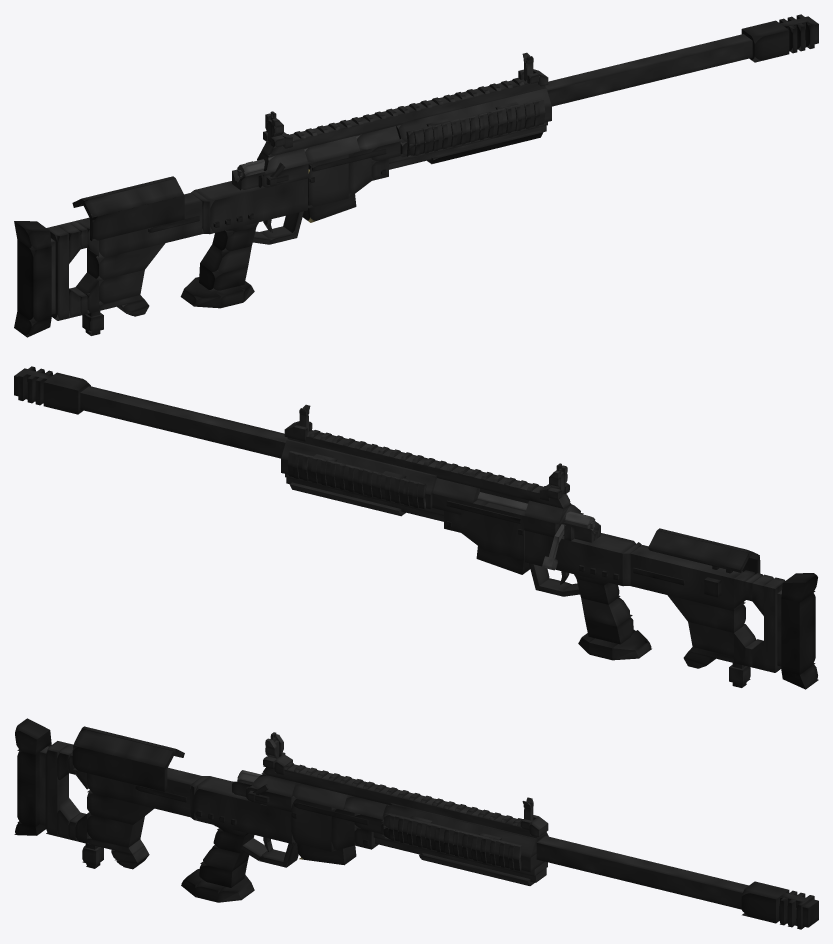
The model's file is jng90.obj.
3 views of the same model, one above another, from view 1: azimuth 30°, elevation 25°; view 2: azimuth 150°, elevation 25°; view 3: azimuth 330°, elevation 25° (orthographic).
Parts seen in each view (by area): view 1: gunModel29, gunModel0, gunModel25, gunModel42, gunModel154, gunModel2, gunModel155, gunModel24, gunModel15, gunModel10, gunModel35, gunModel50 (+15 smaller); view 2: gunModel29, gunModel2, gunModel0, gunModel25, gunModel42, gunModel156, gunModel15, gunModel24, gunModel10, gunModel35, gunModel6, gunModel80 (+14 smaller); view 3: gunModel29, gunModel0, gunModel25, gunModel2, gunModel154, gunModel155, gunModel24, gunModel42, gunModel15, gunModel6, gunModel35, gunModel50 (+23 smaller).
Part boxes in pixels (left/top/right/bottom): gunModel29: left=545, top=34, right=752, bottom=106; gunModel0: left=194, top=178, right=307, bottom=233; gunModel25: left=261, top=75, right=545, bottom=156; gunModel42: left=17, top=239, right=51, bottom=322; gunModel154: left=90, top=195, right=184, bottom=241; gunModel2: left=87, top=193, right=202, bottom=259; gunModel155: left=82, top=178, right=183, bottom=220; gunModel24: left=396, top=87, right=551, bottom=142; gunModel15: left=307, top=154, right=348, bottom=208; gunModel10: left=87, top=243, right=165, bottom=280; gunModel35: left=741, top=20, right=789, bottom=62; gunModel50: left=406, top=98, right=545, bottom=145; gunModel29: left=80, top=386, right=287, bottom=458; gunModel2: left=630, top=545, right=745, bottom=611; gunModel0: left=525, top=530, right=635, bottom=585; gunModel25: left=287, top=430, right=570, bottom=508; gunModel42: left=781, top=593, right=815, bottom=674; gunModel156: left=648, top=530, right=748, bottom=572; gunModel15: left=484, top=503, right=525, bottom=560; gunModel24: left=281, top=439, right=436, bottom=494; gunModel10: left=667, top=595, right=745, bottom=632; gunModel35: left=43, top=372, right=90, bottom=414; gunModel6: left=764, top=577, right=784, bottom=672; gunModel80: left=287, top=450, right=426, bottom=497; gunModel29: left=536, top=836, right=748, bottom=909; gunModel0: left=194, top=776, right=293, bottom=843; gunModel25: left=261, top=764, right=545, bottom=840; gunModel2: left=87, top=767, right=201, bottom=817; gunModel154: left=72, top=743, right=167, bottom=791; gunModel155: left=73, top=729, right=174, bottom=769; gunModel24: left=381, top=803, right=548, bottom=857; gunModel42: left=17, top=743, right=51, bottom=826; gunModel15: left=291, top=798, right=334, bottom=851; gunModel6: left=45, top=741, right=68, bottom=836; gunModel35: left=741, top=881, right=789, bottom=923; gunModel50: left=383, top=812, right=521, bottom=859.
Bounding box in the file's own units: 34.5 × 7.33 × 2.71.
